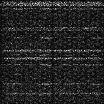lte: (1, 1, 104, 6), (1, 48, 104, 53), (1, 27, 103, 32), (1, 57, 104, 59)
